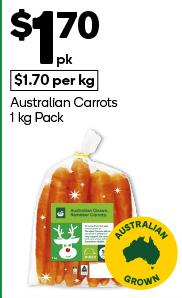description_block: (6, 95, 125, 127)
price_main: (6, 3, 112, 69)
product_image_block: (14, 133, 152, 295)
unit_price_block: (5, 69, 103, 92)
